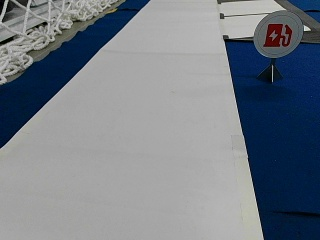battery: (253, 11, 303, 57)
